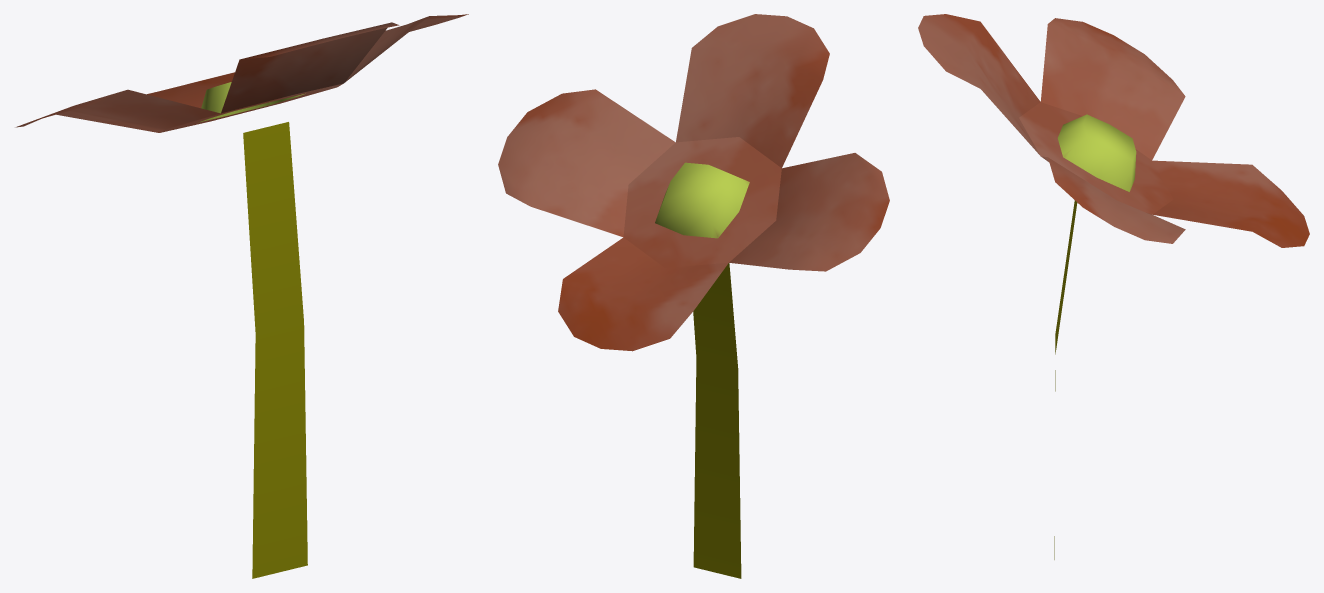
The model's file is Tall_Flower_1_1.fbx.
3 views of the same model, side by side, from view 1: azimuth 30°, elevation 25°; view 2: azimuth 150°, elevation 25°; view 3: azimuth 270°, elevation 25° (orthographic). The views are drawn at different scales.
Parts seen in each view (by area): view 1: Plane.003; view 2: Plane.003; view 3: Plane.003.
Part boxes in pixels (bbox=[...]): Plane.003: bbox=[15, 14, 468, 578]; Plane.003: bbox=[498, 14, 889, 578]; Plane.003: bbox=[918, 14, 1309, 559].
Bounding box in the file's own units: 15.17 × 19.82 × 13.13.
